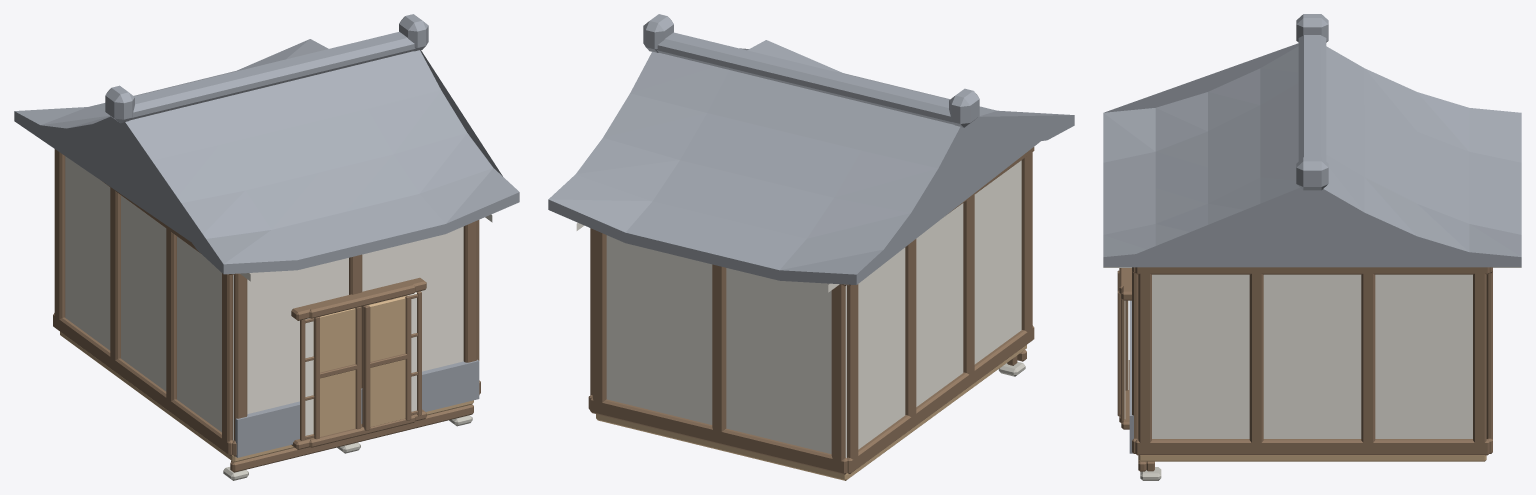
The model's file is plaster-storehouse.glb.
The picture shows the model from 3 angles, left to right: view 1: azimuth 30°, elevation 25°; view 2: azimuth 150°, elevation 25°; view 3: azimuth 270°, elevation 25°; orthographic projection. The views are drawn at different scales.
Visible parts, largest first — view 1: plaster-storehouse; view 2: plaster-storehouse; view 3: plaster-storehouse.
Part boxes in pixels (x1,y1,x2,y2): plaster-storehouse: (14,14,519,480); plaster-storehouse: (548,14,1074,480); plaster-storehouse: (1103,14,1521,480).
Size of the model in its own units: 5.2 by 5.31 by 6.
